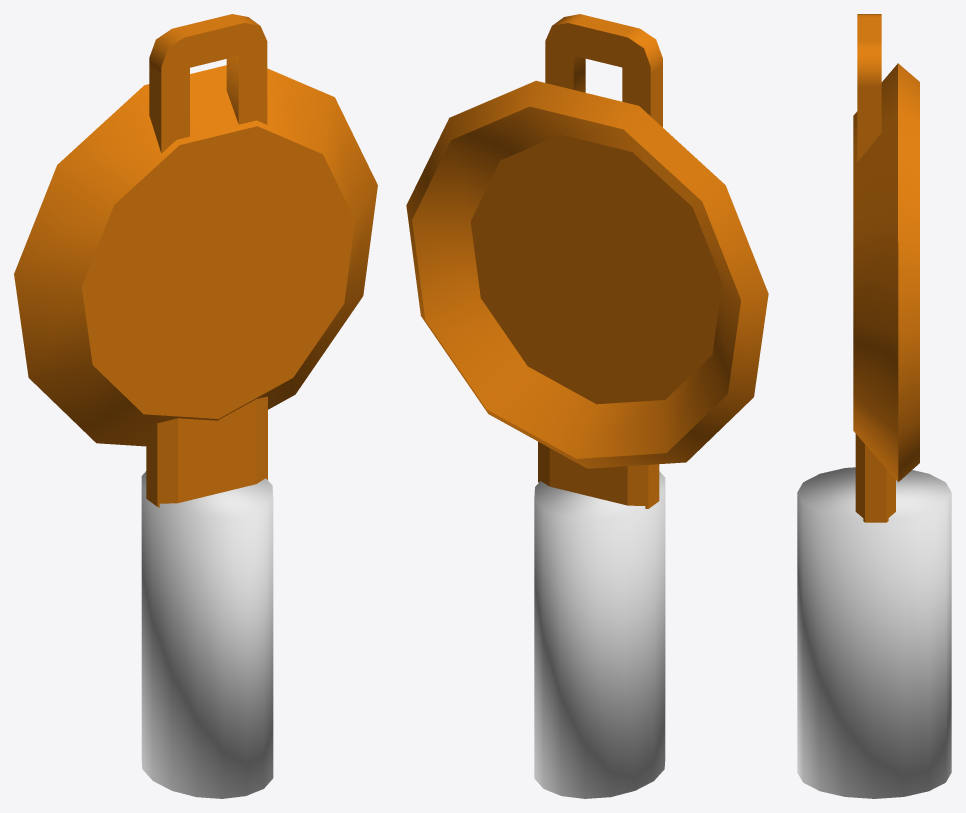
Rendered from Pin 19.fbx.
The picture shows the model from 3 angles, left to right: view 1: azimuth 30°, elevation 25°; view 2: azimuth 150°, elevation 25°; view 3: azimuth 270°, elevation 25°; orthographic projection.
Visible parts, largest first — view 1: Pan, Cylinder; view 2: Pan, Cylinder; view 3: Cylinder, Pan.
Boxes of the visible parts, <box> form: Pan: <box>14,14,377,507</box>; Cylinder: <box>141,471,273,798</box>; Pan: <box>406,14,768,508</box>; Cylinder: <box>534,471,665,798</box>; Cylinder: <box>797,467,951,798</box>; Pan: <box>853,14,919,522</box>.
Bounding box in the file's own units: 136 × 265 × 50.
